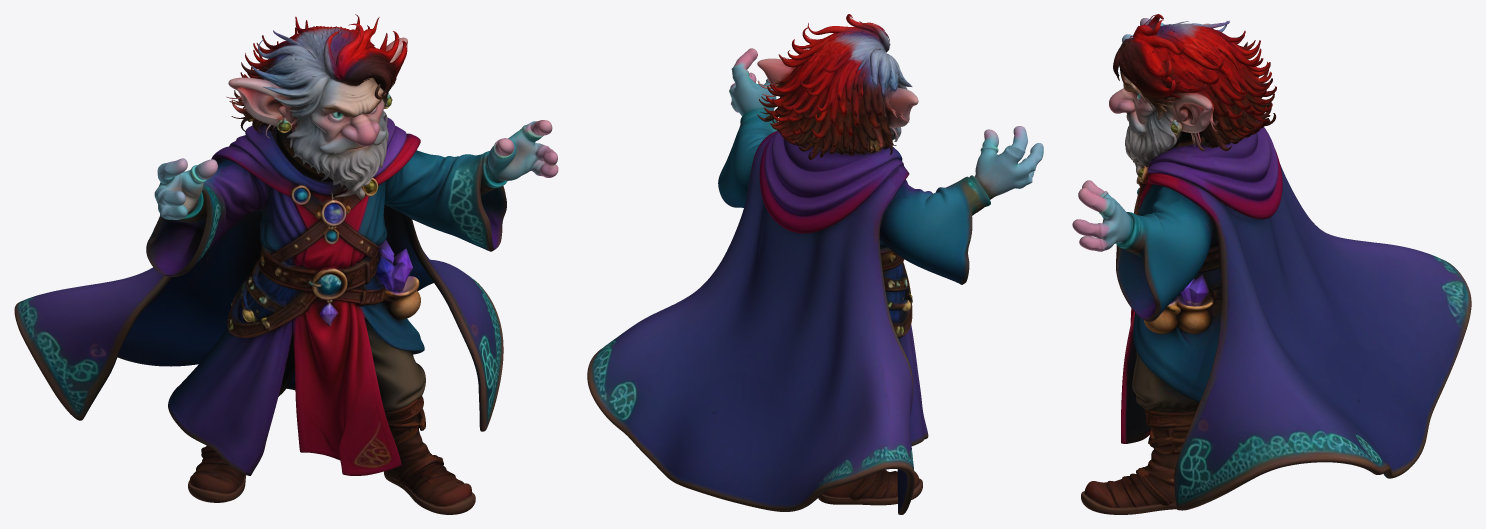
The model's file is gnome_sorcerer_full_male_01.glb.
3 renders of one model, left to right at view 1: azimuth 30°, elevation 25°; view 2: azimuth 150°, elevation 25°; view 3: azimuth 270°, elevation 25°, orthographic. The views are drawn at different scales.
Parts seen in each view (by area): view 1: material; view 2: material; view 3: material.
Boxes of the visible parts, left/top/right/bottom form: material: left=14, top=14, right=558, bottom=514; material: left=587, top=14, right=1043, bottom=514; material: left=1072, top=14, right=1471, bottom=514.
Size of the model in its own units: 0.8208 by 0.9322 by 0.7435.
1 material, 1 textured.
